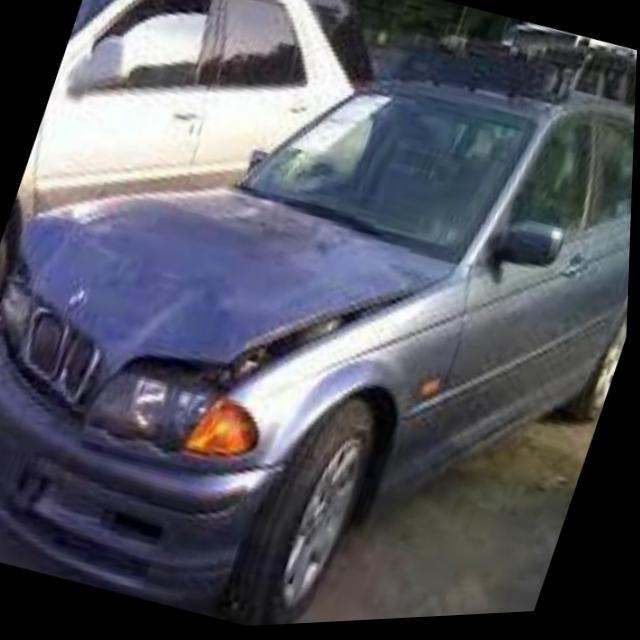dent: (9, 217, 185, 406)
dislocated part: (125, 287, 432, 404)
